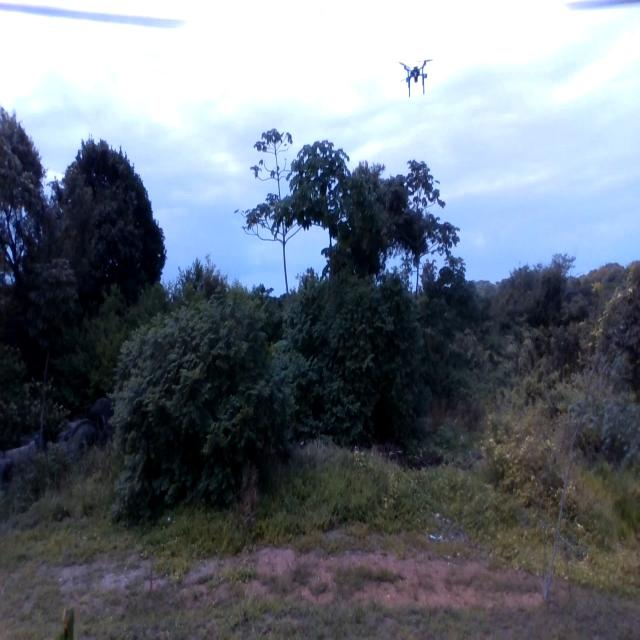-uav-: (392, 53, 436, 101)
